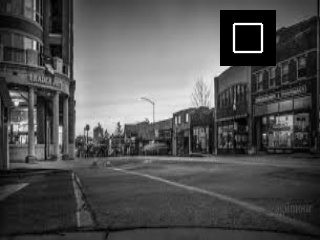square: (220, 9, 276, 66)
